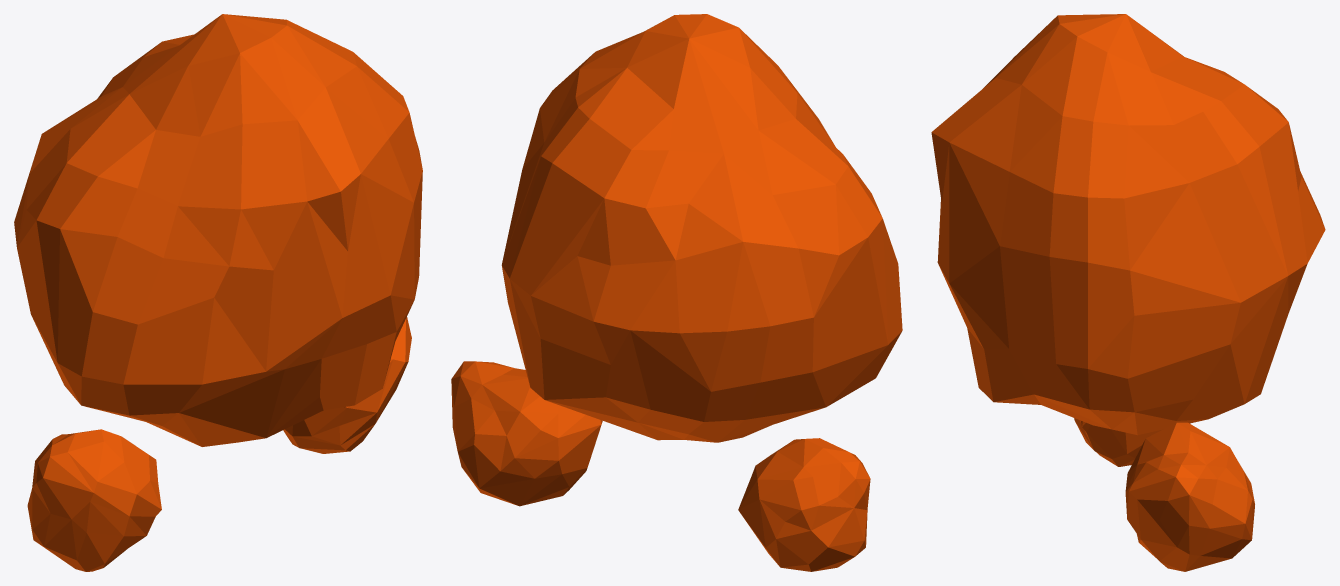
Rendered from tree-autumn-leaves-3-047.glb.
The picture shows the model from 3 angles, left to right: view 1: azimuth 30°, elevation 25°; view 2: azimuth 150°, elevation 25°; view 3: azimuth 270°, elevation 25°; orthographic projection. The views are drawn at different scales.
Visible parts, largest first — view 1: TREE 3.003_396; view 2: TREE 3.003_396; view 3: TREE 3.003_396.
Boxes of the visible parts, x1=… form: TREE 3.003_396: x1=14, y1=14, x2=422, y2=571; TREE 3.003_396: x1=451, y1=14, x2=902, y2=571; TREE 3.003_396: x1=931, y1=14, x2=1325, y2=571.
Size of the model in its own units: 1.04 by 1.29 by 0.8969.
